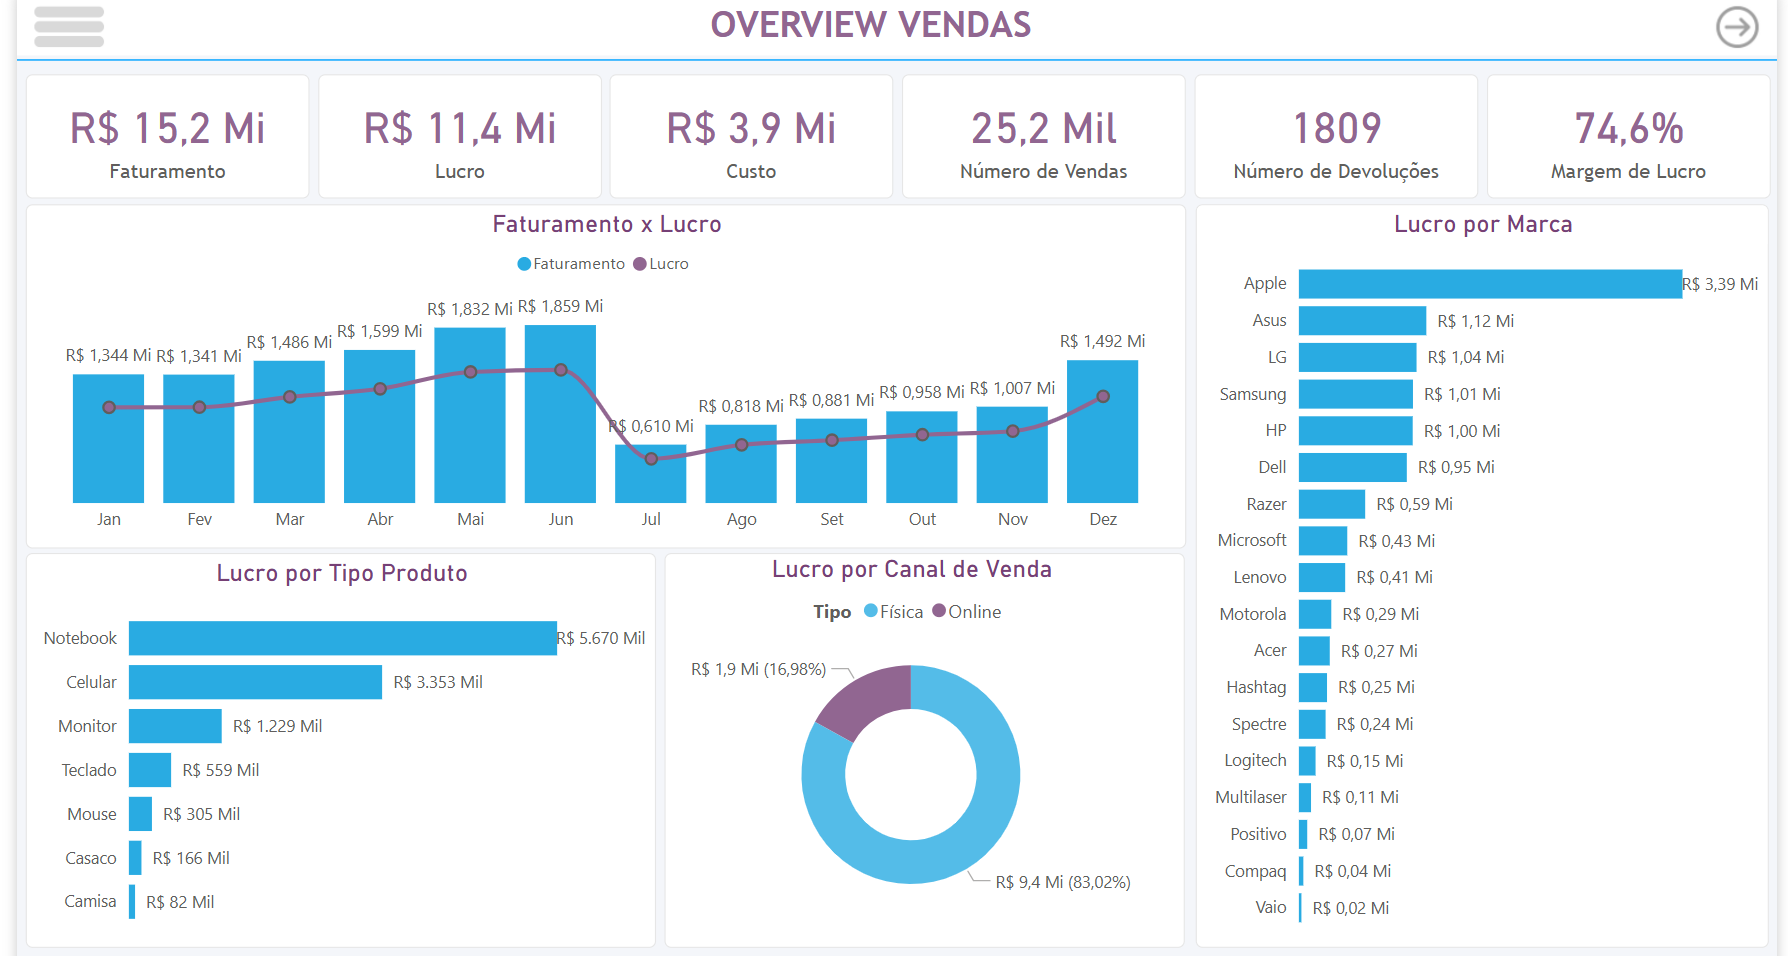

This screenshot's page, from the dashboard's own definition file:
{"tool":"powerbi","page":{"name":"Página 1","canvas":[1280,720],"ordinal":0},"visuals":[{"type":"card","fields":{"Values":["Medidas.Faturamento total"]},"box":[182.9,48.5,199,97],"z":0},{"type":"card","fields":{"Values":["Medidas.Custo Total"]},"box":[588.4,44.8,209,104.5],"z":1000},{"type":"card","fields":{"Values":["Medidas.Lucro Total"]},"box":[383.1,48.5,192.8,97],"z":2000},{"type":"card","fields":{"Values":["Medidas.Número de Vendas"]},"box":[797.4,44.8,154.3,104.5],"z":3000},{"type":"card","fields":{"Values":["Medidas.Número de Devoluções"]},"box":[952.9,43.5,177.9,113.2],"z":4000},{"type":"card","fields":{"Values":["Medidas.Margem de Lucro"]},"box":[1130.8,54.7,138.1,90.8],"z":5000},{"type":"slicer","fields":{"Values":["dim_Calendario.Ano"]},"box":[13.7,189.1,189.1,79.6],"z":8000},{"type":"slicer","fields":{"Values":["Localidades.País"]},"box":[13.7,319.7,189.1,79.6],"z":8001},{"type":"slicer","fields":{"Values":["Localidades.Continente"]},"box":[13.7,435.4,189.1,79.6],"z":8002},{"type":"lineStackedColumnComboChart","title":"Faturamento x Lucro","fields":{"Category":["dim_Calendario.Mes Abrev."],"Y":["Medidas.Faturamento"],"Y2":["Medidas.Lucro"]},"box":[214,166.7,959.1,232.6],"z":8003},{"type":"clusteredColumnChart","fields":{"Category":["Produtos.Marca"],"Y":["Medidas.Lucro"]},"box":[214,426.7,660.5,268.7],"z":8004},{"type":"clusteredBarChart","fields":{"Category":["Lojas.Tipo"],"Y":["Medidas.Lucro"]},"box":[886.9,435.4,313.5,260],"z":8005}]}

Visuals, with their boxes on the page's 1280x720 design canvas (x1, y1, x2, y2). These are canvas units, not pixel positions in the 1788x956 screenshot, which may show the page scaled, cropped or inside an application window:
card - Medidas.Faturamento total: x1=183 y1=48 x2=382 y2=146
card - Medidas.Custo Total: x1=588 y1=45 x2=797 y2=149
card - Medidas.Lucro Total: x1=383 y1=48 x2=576 y2=146
card - Medidas.Número de Vendas: x1=797 y1=45 x2=952 y2=149
card - Medidas.Número de Devoluções: x1=953 y1=44 x2=1131 y2=157
card - Medidas.Margem de Lucro: x1=1131 y1=55 x2=1269 y2=146
slicer - dim_Calendario.Ano: x1=14 y1=189 x2=203 y2=269
slicer - Localidades.País: x1=14 y1=320 x2=203 y2=399
slicer - Localidades.Continente: x1=14 y1=435 x2=203 y2=515
"Faturamento x Lucro" lineStackedColumnComboChart: x1=214 y1=167 x2=1173 y2=399
clusteredColumnChart - Produtos.Marca x Medidas.Lucro: x1=214 y1=427 x2=874 y2=695
clusteredBarChart - Lojas.Tipo x Medidas.Lucro: x1=887 y1=435 x2=1200 y2=695
